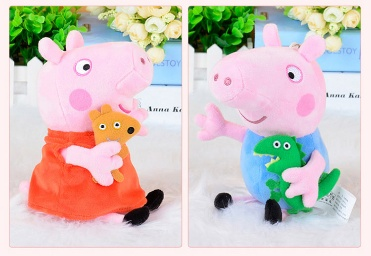Peppa: (23, 28, 168, 228)
